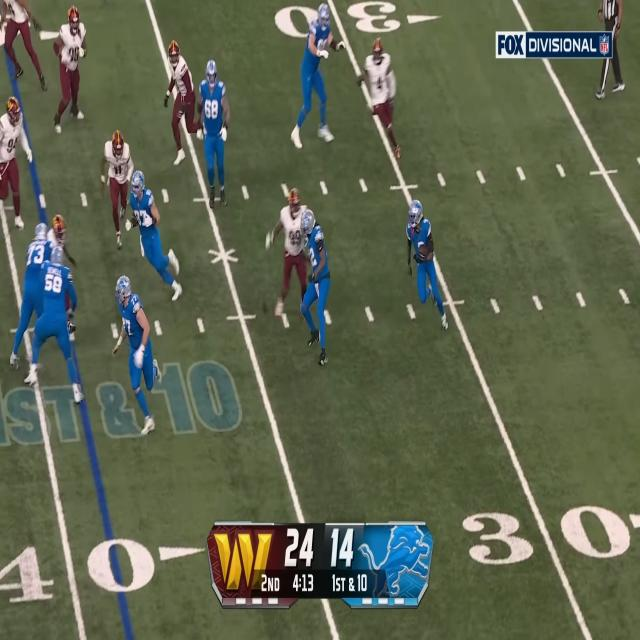Ball: (418, 246, 429, 255)
